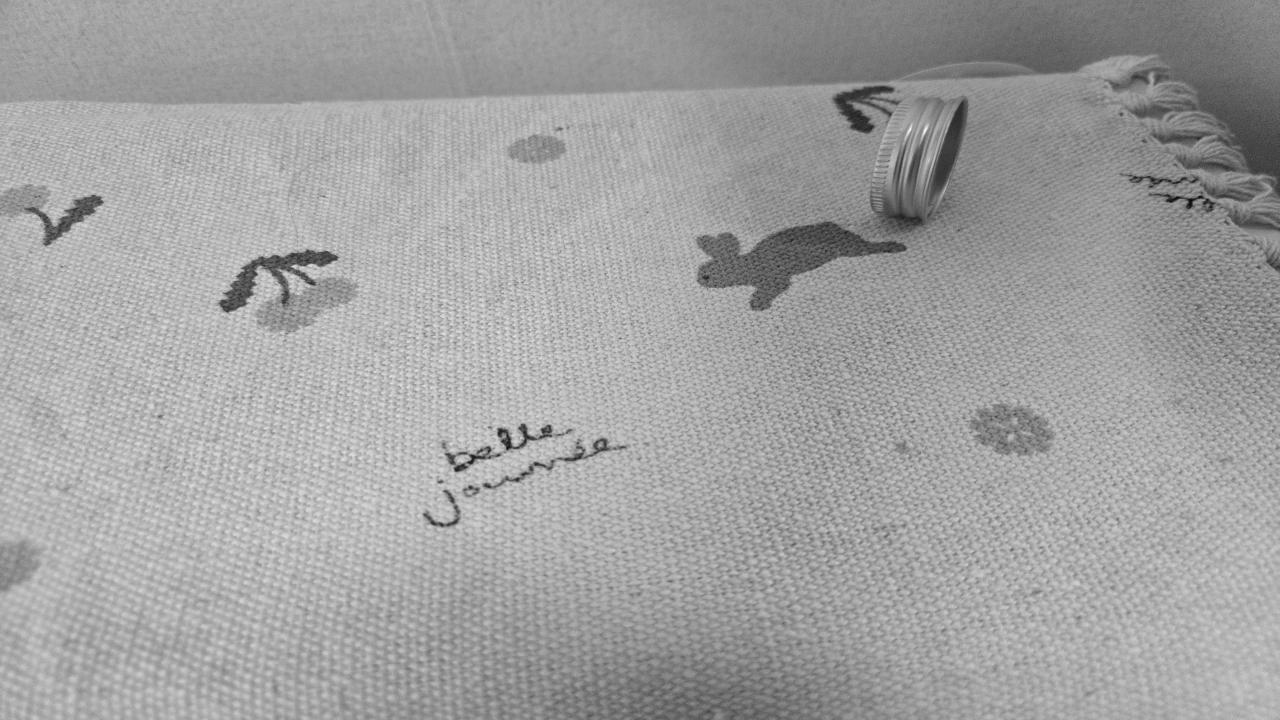bottle_cap: (870, 99, 968, 218)
